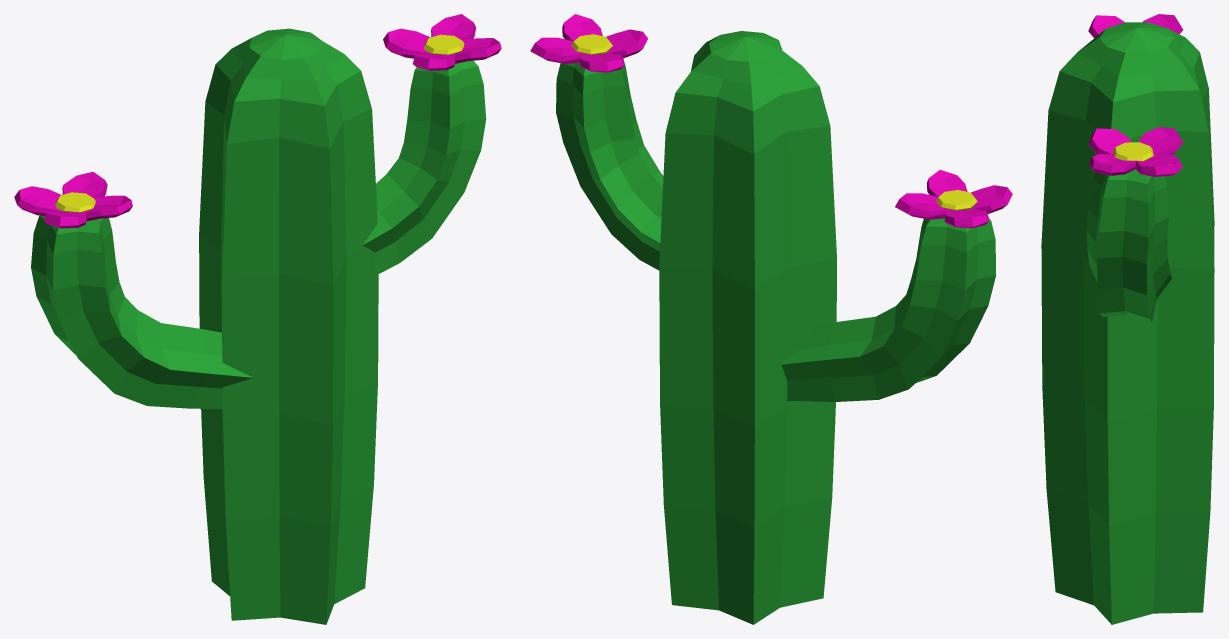
The model's file is cactuswithflower.fbx.
3 views of the same model, side by side, from view 1: azimuth 30°, elevation 25°; view 2: azimuth 150°, elevation 25°; view 3: azimuth 270°, elevation 25° (orthographic).
Visible parts, largest first — view 1: cactuswith flower; view 2: cactuswith flower; view 3: cactuswith flower.
Part boxes in pixels (x1,y1,x2,y2): cactuswith flower: (14, 14, 501, 624); cactuswith flower: (530, 14, 1012, 624); cactuswith flower: (1041, 14, 1214, 624).
Bounding box in the file's own units: 108 × 126 × 34.99.
